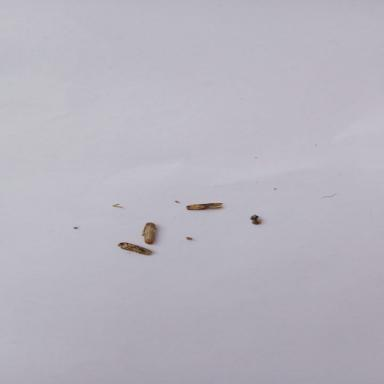pbw: (113, 239, 152, 256), (184, 201, 223, 211), (140, 222, 157, 244)
